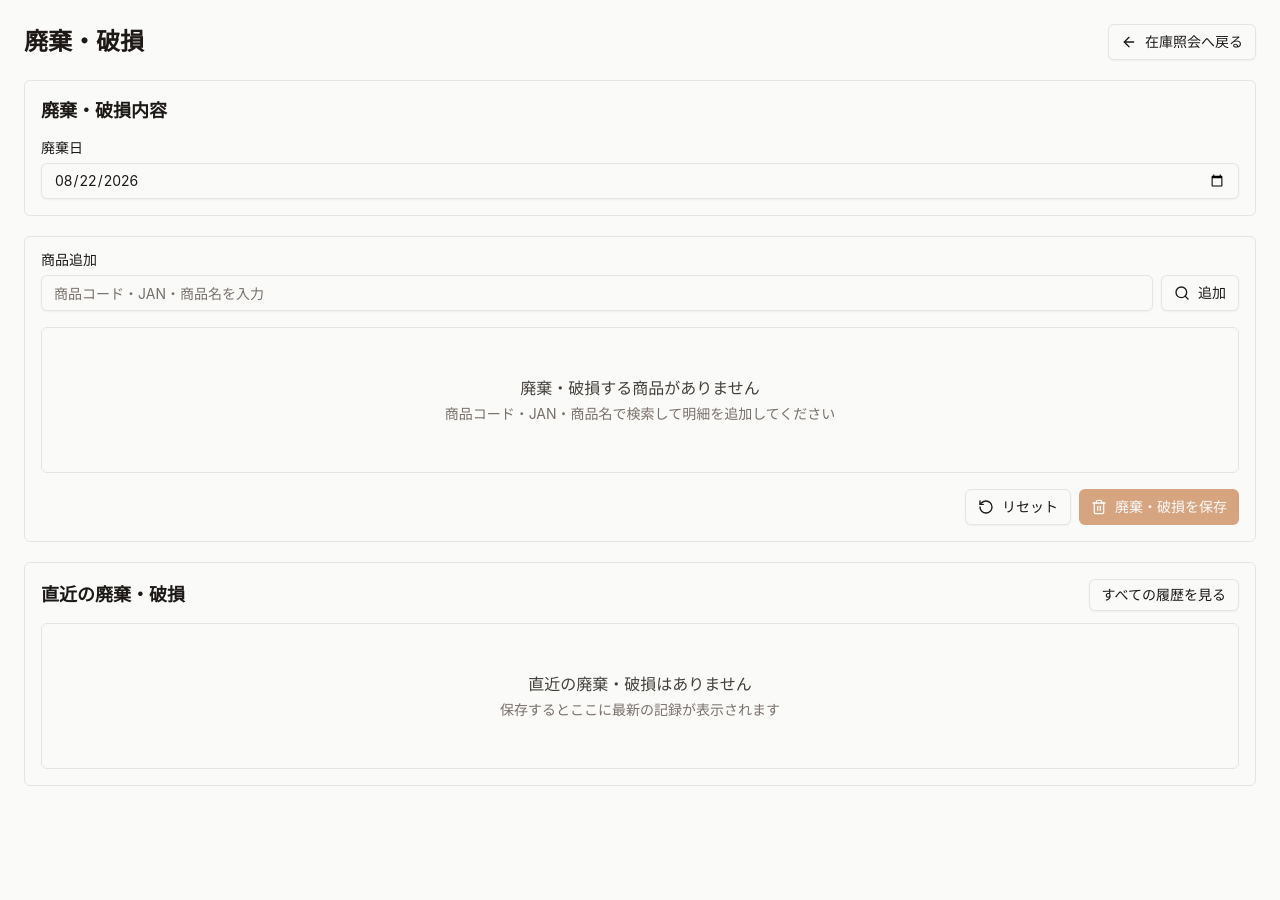
it: DisposalPage (UI-05 / REQ-204) › REQ-204 adds a single matching product and restores focus with damage defaults
This screenshot has width=1280, height=900.
Type "DP-001" into the dropdown named "廃棄・破損商品検索".
click(597, 293); type("DP-001")  # box [41,275,1153,311]
Then press Enter
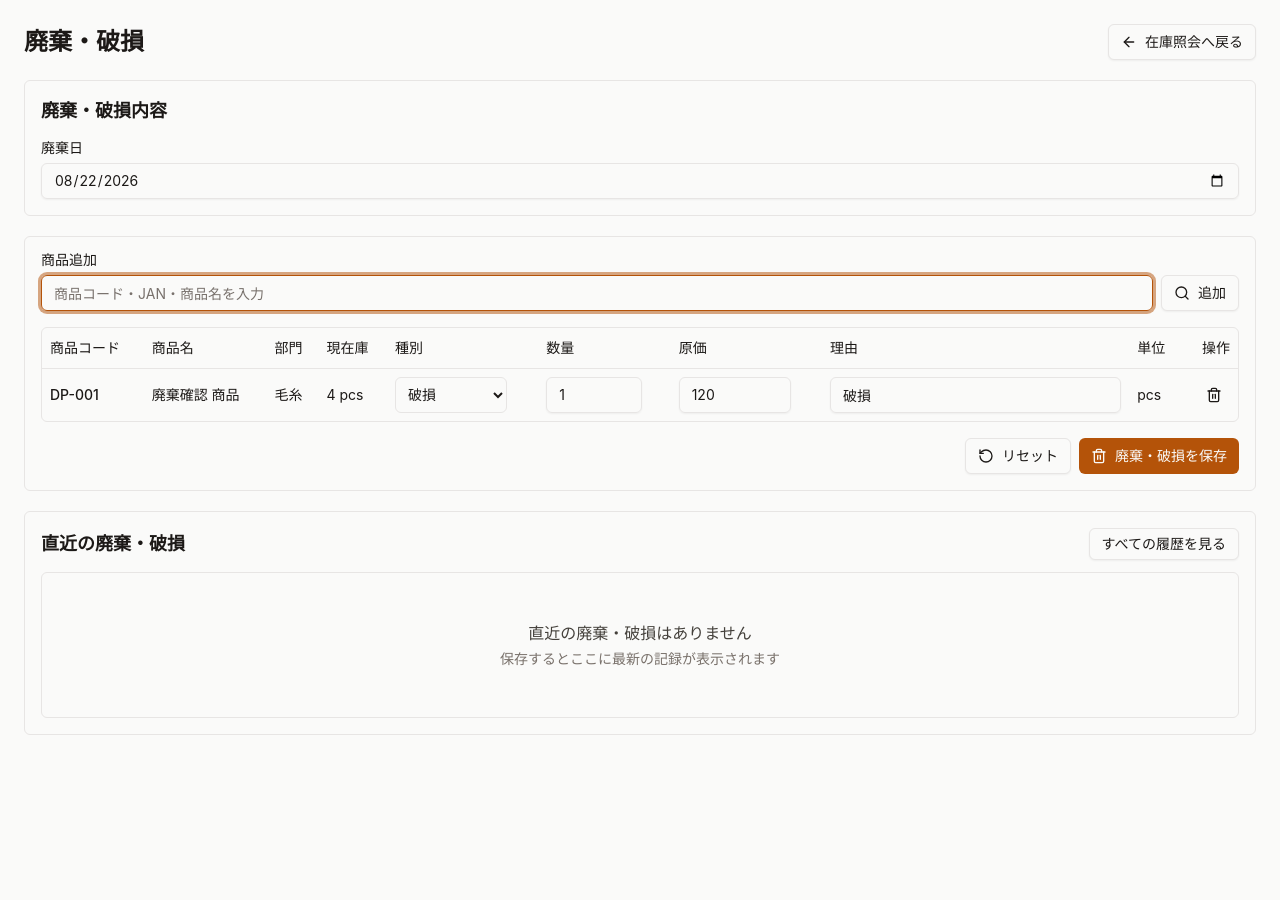
Expected: the text "DP-001" is shown, [42,368,144,420]
Expected: the text "廃棄確認 商品" is shown, [144,368,266,420]
Expected: the dropdown named "DP-001 の種別" shows "破損", [395,376,507,412]
